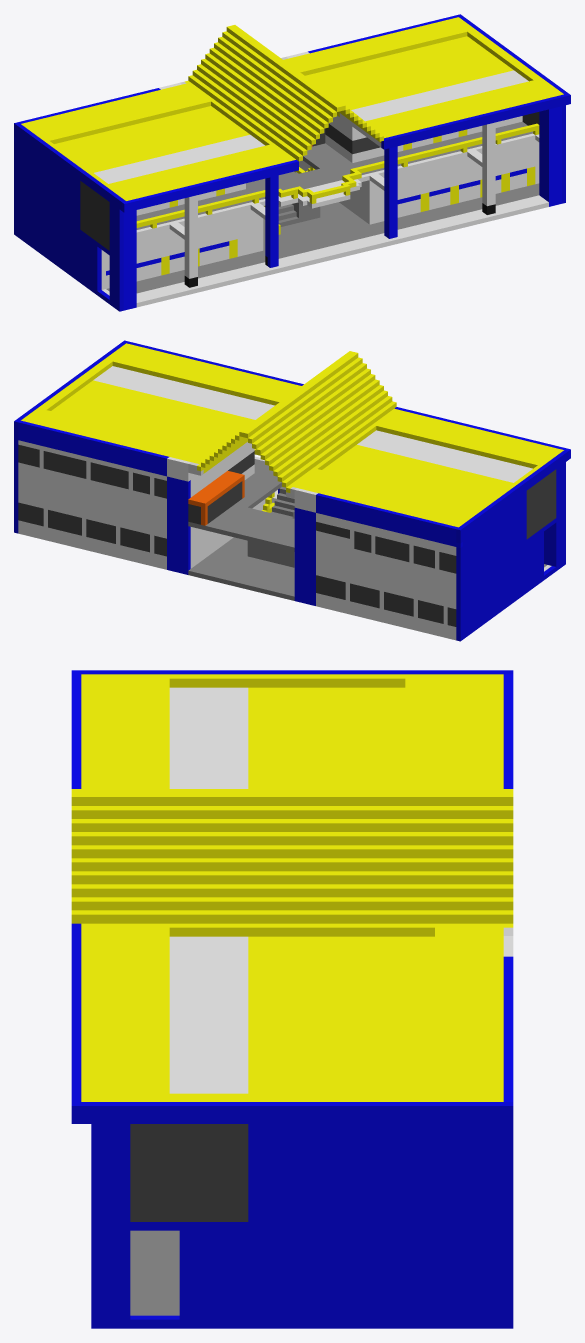
The model's file is Predio B.obj.
3 views of the same model, one above another, from view 1: azimuth 30°, elevation 25°; view 2: azimuth 150°, elevation 25°; view 3: azimuth 270°, elevation 25° (orthographic). The views are drawn at different scales.
Bounding box in the file's own units: 10.5 × 3.5 × 4.5.
1 material, 1 textured.
